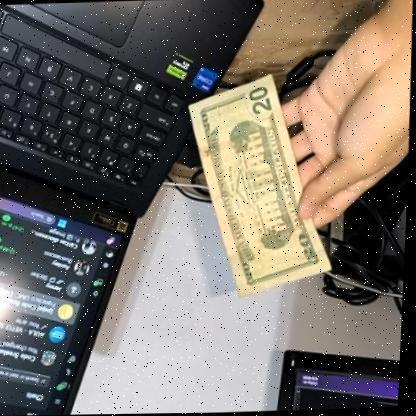twenty-back: (178, 72, 340, 300)
